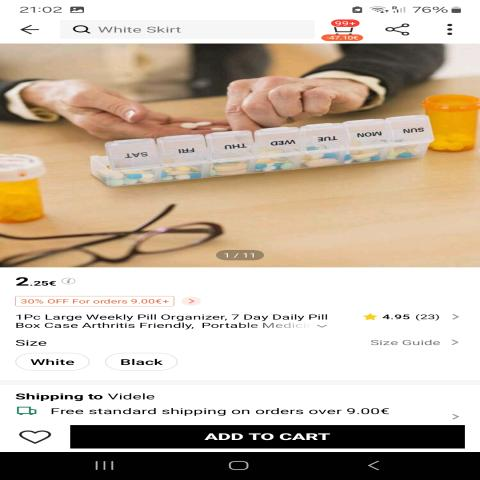Pill-box: (56, 126, 478, 184)
